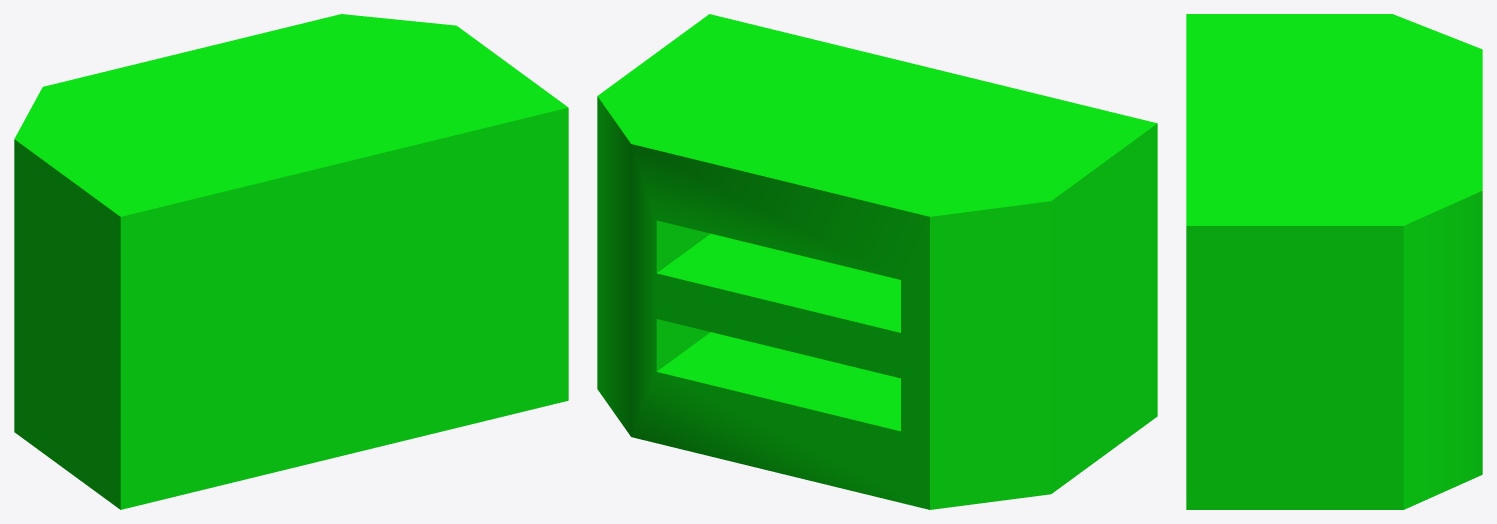
File: SM_Toster_01_Collider.fbx
3 views of the same model, side by side, from view 1: azimuth 30°, elevation 25°; view 2: azimuth 150°, elevation 25°; view 3: azimuth 270°, elevation 25° (orthographic). The views are drawn at different scales.
Visible parts, largest first — view 1: SM_Toster_01_Collider; view 2: SM_Toster_01_Collider; view 3: SM_Toster_01_Collider.
Boxes of the visible parts, <box> form: SM_Toster_01_Collider: <box>14,14,568,509</box>; SM_Toster_01_Collider: <box>597,14,1157,509</box>; SM_Toster_01_Collider: <box>1186,14,1482,509</box>.
Bounding box in the file's own units: 49.64 × 31.03 × 29.31.
